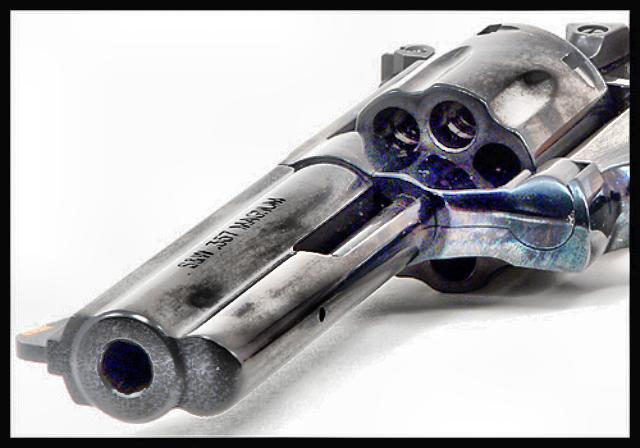pistol: (14, 23, 628, 421)
